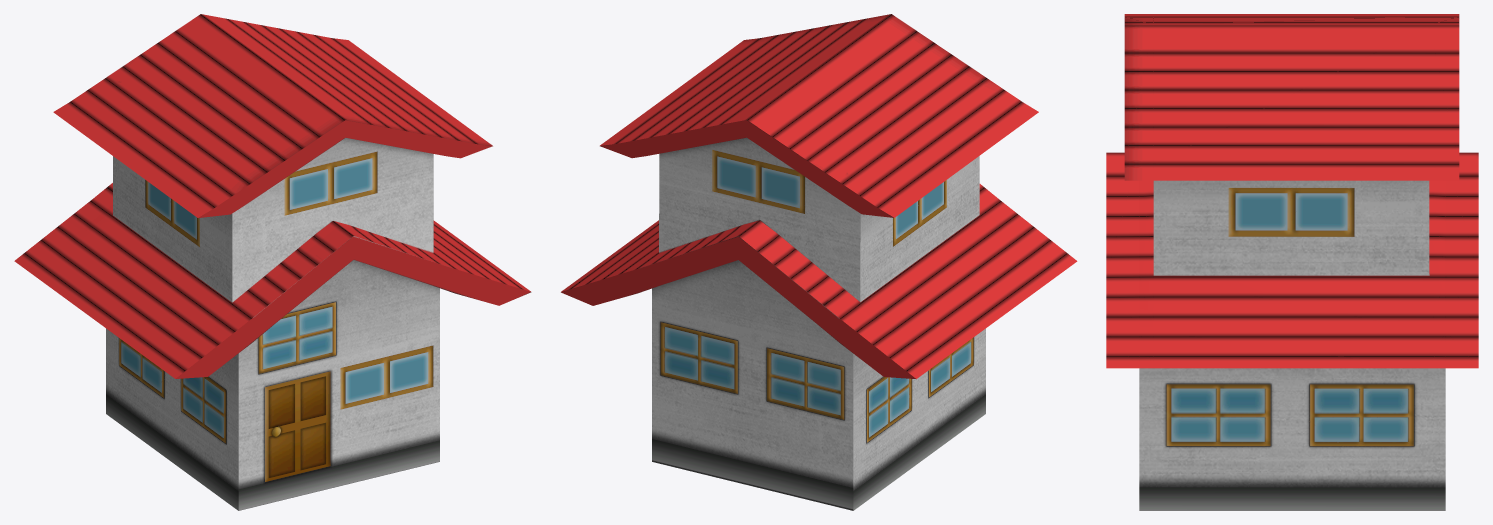
File: second_house.fbx
3 views of the same model, side by side, from view 1: azimuth 30°, elevation 25°; view 2: azimuth 150°, elevation 25°; view 3: azimuth 270°, elevation 25° (orthographic). The views are drawn at different scales.
Visible parts, largest first — view 1: second_house; view 2: second_house; view 3: second_house.
Boxes of the visible parts, x1=… form: second_house: x1=14, y1=14, x2=531, y2=510; second_house: x1=561, y1=14, x2=1077, y2=510; second_house: x1=1106, y1=14, x2=1478, y2=510.
Bounding box in the file's own units: 9.15 × 9.1 × 7.17.
